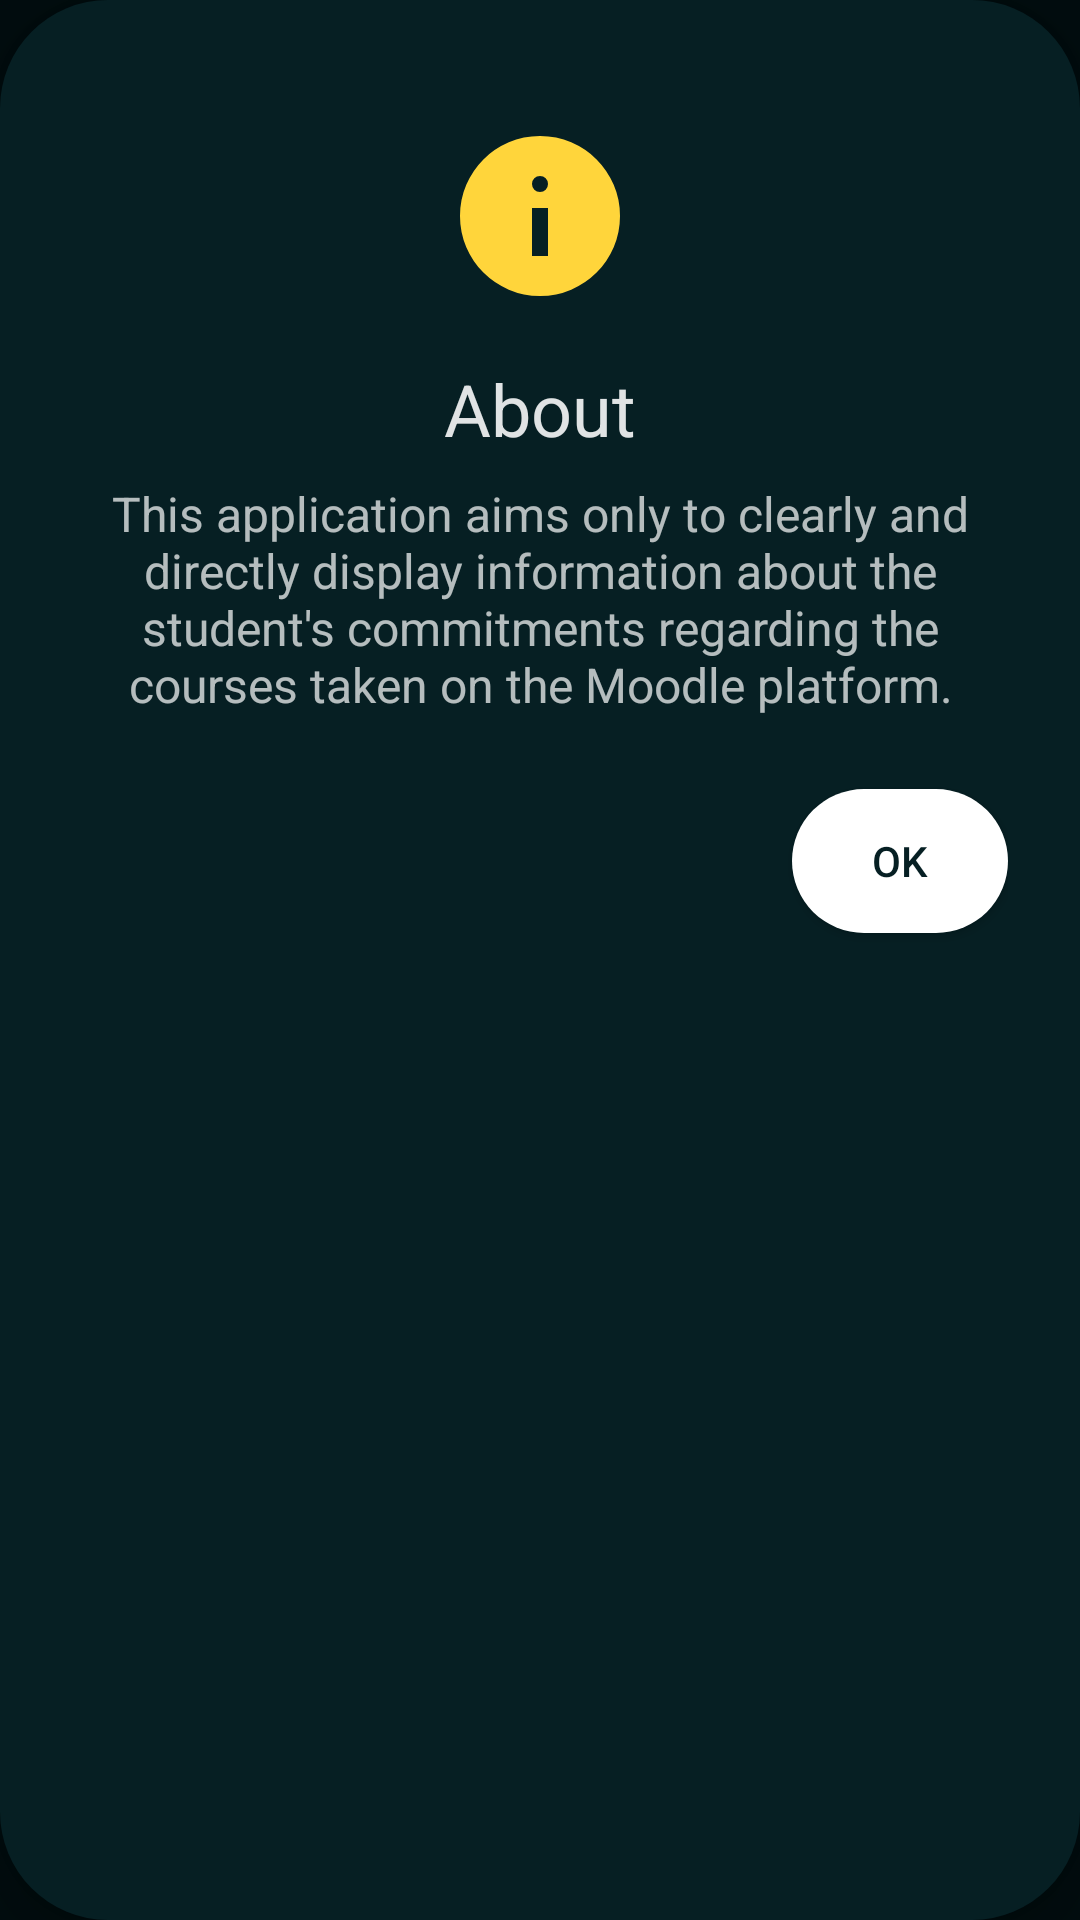

Icon bounding boxes for this 1080 x 1920 phone screenshot, format (x1, y1, x2, y2):
info: (460, 136, 620, 296)
